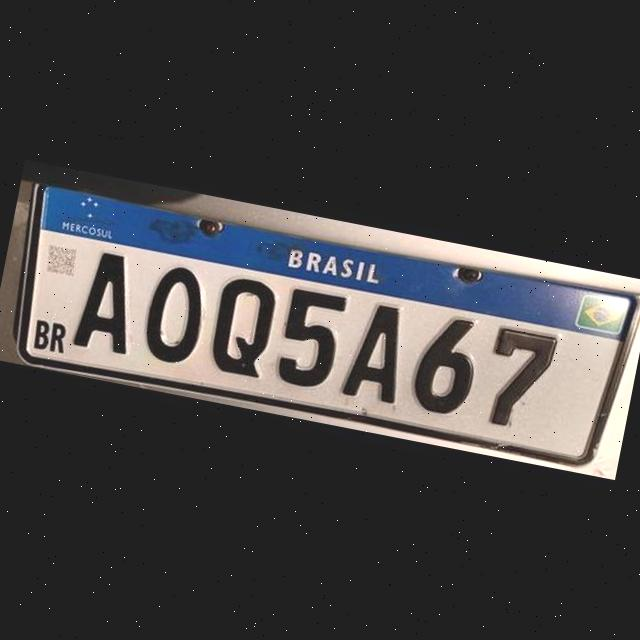Caractere: (476, 320, 562, 438), (406, 307, 489, 421), (271, 281, 350, 394), (70, 245, 146, 357), (205, 270, 282, 380), (340, 296, 414, 408), (137, 260, 212, 368)
Placa: (0, 167, 640, 474)
